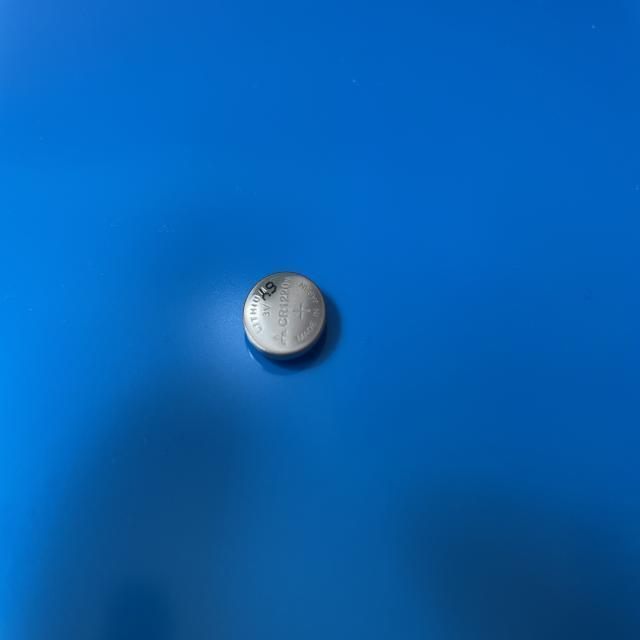COIN: (240, 267, 332, 363)
